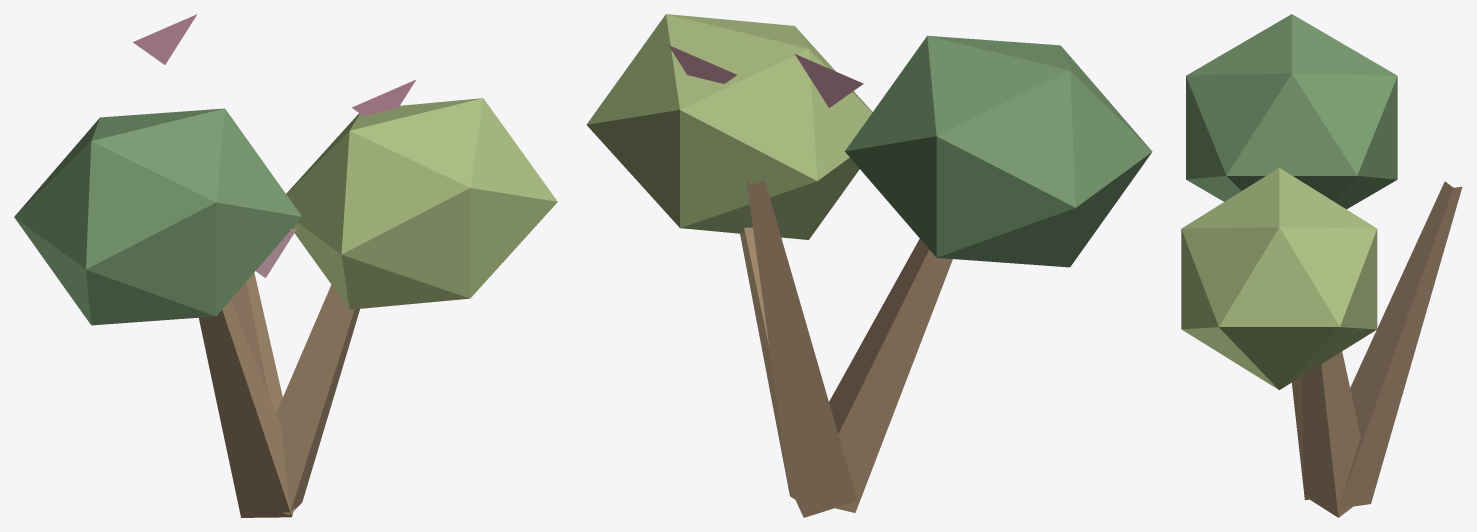
The picture shows the model from 3 angles, left to right: view 1: azimuth 30°, elevation 25°; view 2: azimuth 150°, elevation 25°; view 3: azimuth 270°, elevation 25°; orthographic projection. The views are drawn at different scales.
Visible parts, largest first — view 1: Body; view 2: Body; view 3: Body.
Part boxes in pixels (x1=…): Body: x1=14, y1=14, x2=557, y2=517; Body: x1=586, y1=14, x2=1152, y2=517; Body: x1=1181, y1=14, x2=1462, y2=517.
Size of the model in its own units: 1.58 by 1.5 by 0.9032.
